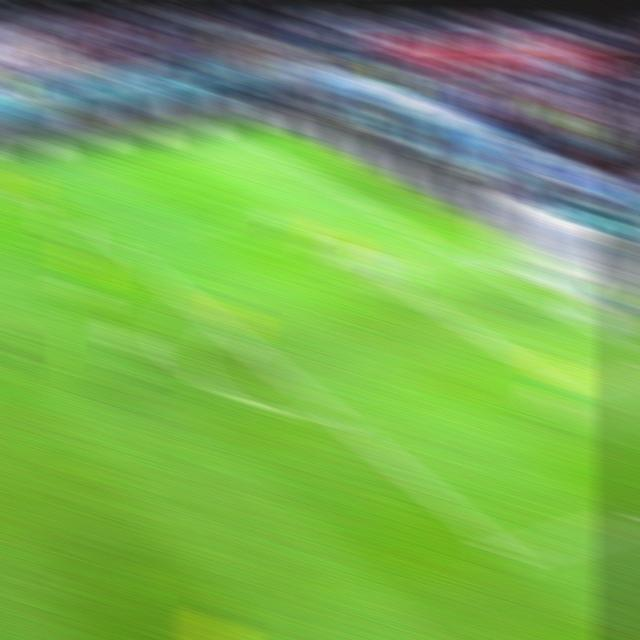bigarea_bottom_inner: (486, 534, 532, 577)
bigarea_top_inner: (84, 219, 125, 250)
bigarea_top_outter: (326, 185, 362, 206)
bottom_arc_area_intersection: (314, 399, 356, 436)
corner: (225, 131, 261, 149)
smallarea_top_inner: (347, 257, 377, 275)
smallarea_top_outter: (421, 234, 459, 260)
top_arc_area_intersection: (177, 290, 219, 326)
